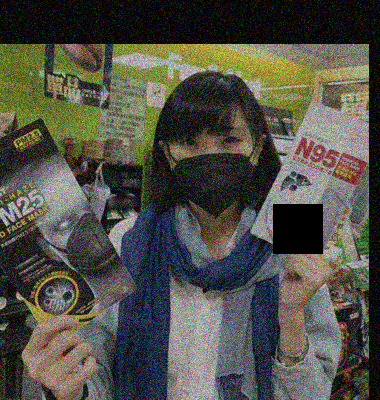with_mask: (167, 124, 255, 216)
